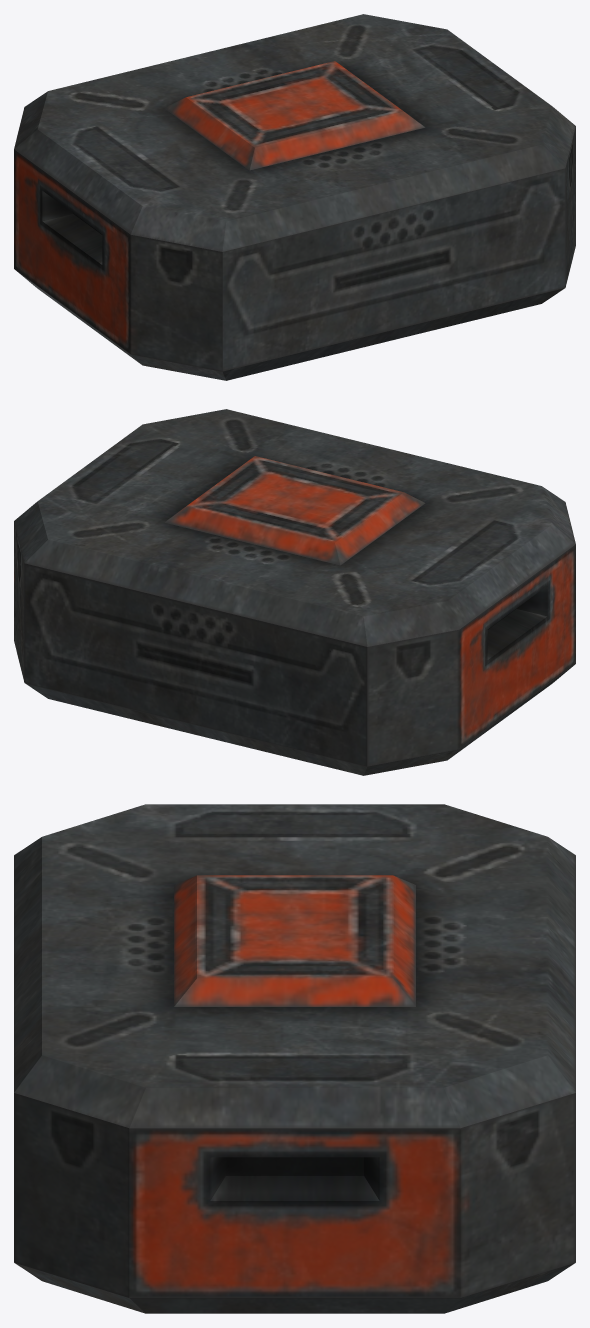
The model's file is scifibox.obj.
3 renders of one model, top to bottom at view 1: azimuth 30°, elevation 25°; view 2: azimuth 150°, elevation 25°; view 3: azimuth 270°, elevation 25°, orthographic. The views are drawn at different scales.
Parts seen in each view (by area): view 1: Box01; view 2: Box01; view 3: Box01.
Boxes of the visible parts, <box> form: Box01: <box>14,14,575,380</box>; Box01: <box>14,409,575,775</box>; Box01: <box>14,804,575,1313</box>.
Size of the model in its own units: 38.94 by 14.44 by 30.
1 material, 1 textured.
